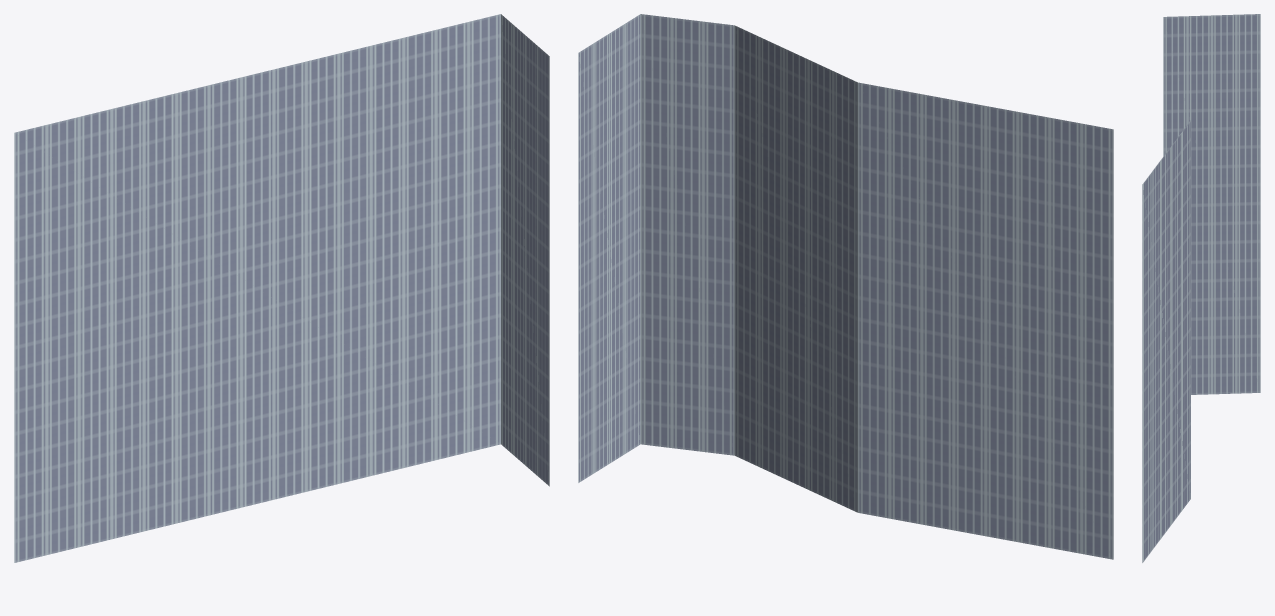
Rendered from testui11.gltf.
The picture shows the model from 3 angles, left to right: view 1: azimuth 30°, elevation 25°; view 2: azimuth 150°, elevation 25°; view 3: azimuth 270°, elevation 25°; orthographic projection. The views are drawn at different scales.
Bounding box in the file's own units: 71 × 60 × 17.
Materials: 2 (2 with a texture image).
